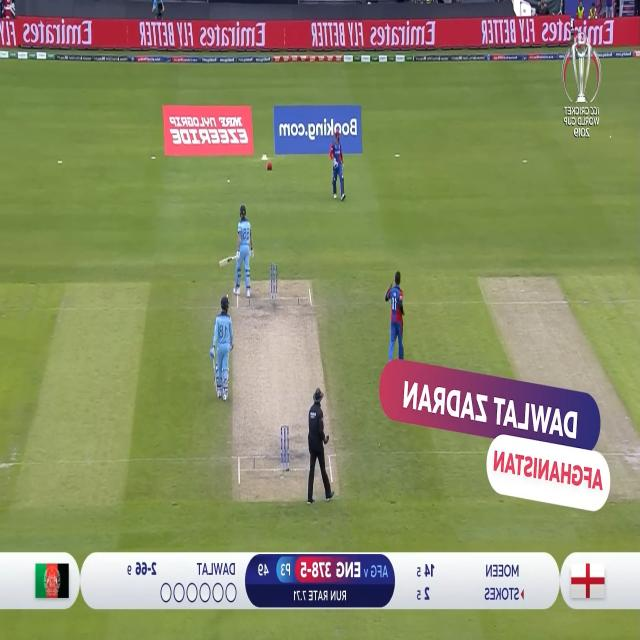ball: (609, 130, 614, 138)
